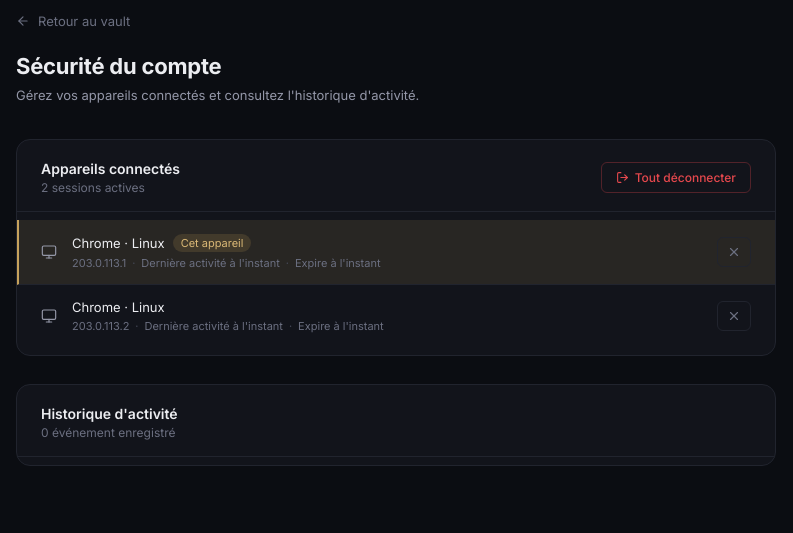
Scenario: SessionsPage › says so when revoking a session fails, instead of failing silently
Click the button titled "Révoquer cette session": (734, 316) [717,301,751,331]
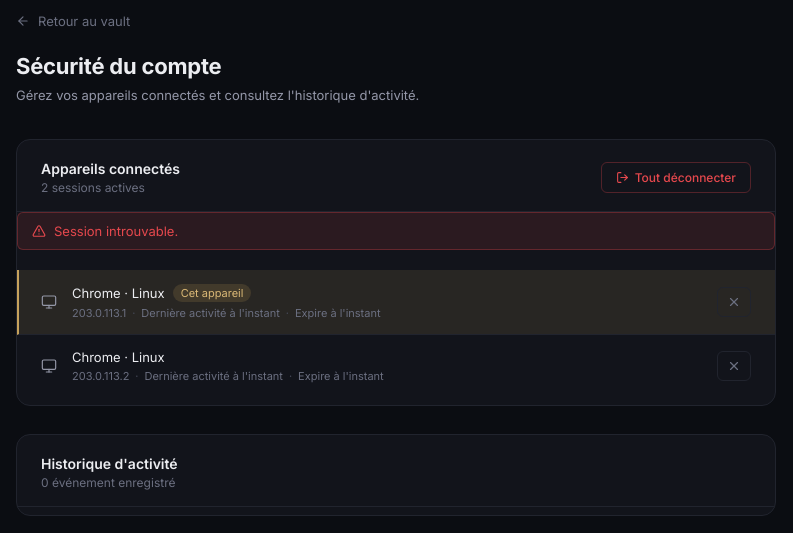
Check: the message reads "Session introuvable.", box [54,223,178,239]
